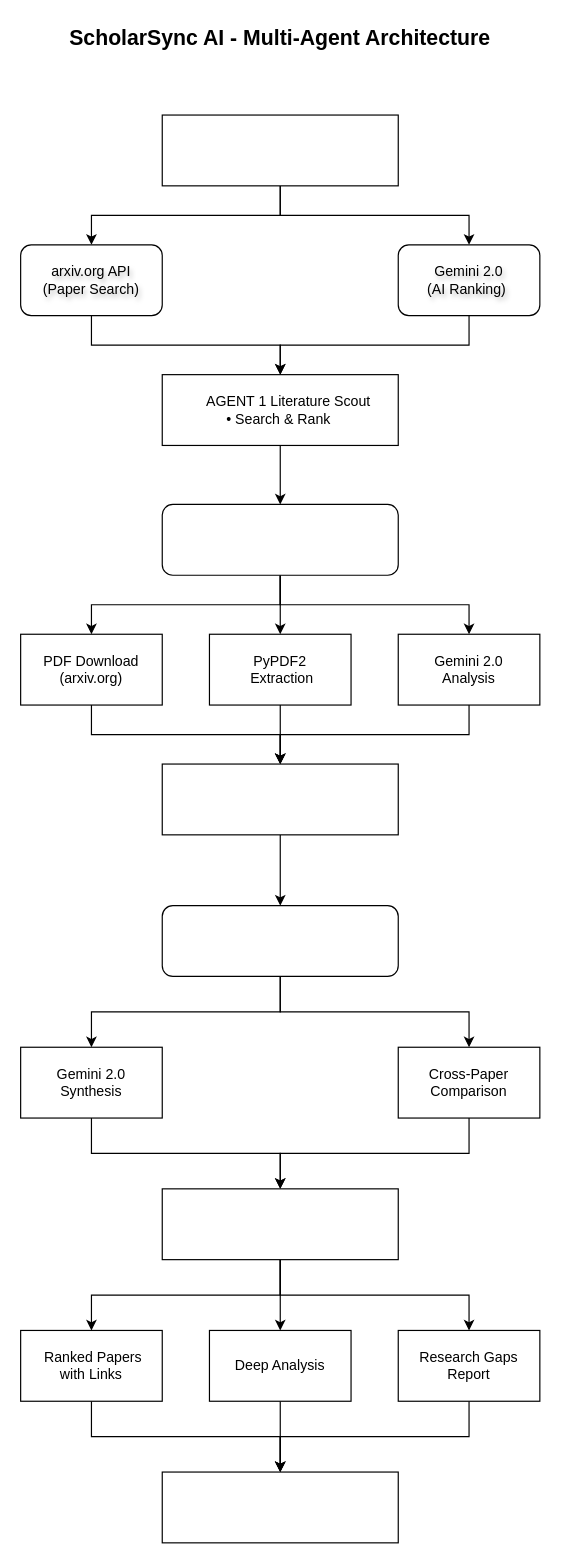
Image size: 561x1563. Some labels were removed from this diagram. Here are the shapes that lost their labels. From the top down, the box of each, then its label:
(161, 114, 398, 186): Research Topic + Parameters
(161, 503, 398, 575): Top N Ranked Papers
(161, 763, 398, 835): AGENT 2 Paper Analyser • Extract Information
(161, 904, 398, 976): Structured Summaries (Question, Method, etc.)
(161, 1188, 398, 1260): AGENT 3 Research Gap Analyser • Identify Gaps
(161, 1471, 398, 1543): FINAL OUTPUT Downloadable Markdown
